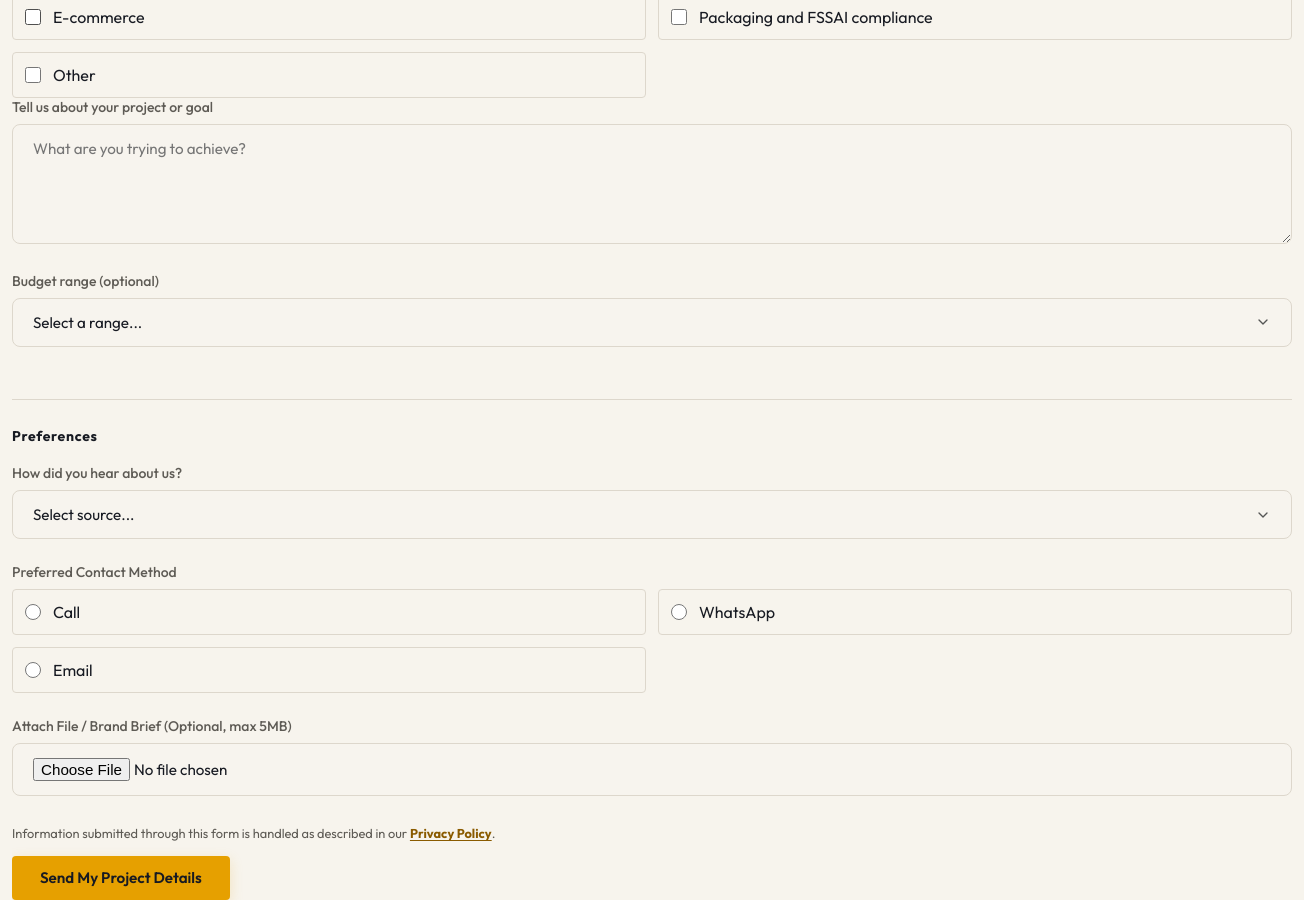
Scenario: ProjectPlannerForm › reports all required fields and focuses the first invalid control
The image size is (1304, 900).
(page scrolled)
Click the button "Send My Project Details".
click(121, 878)  # box [12,856,230,899]
(page scrolled)
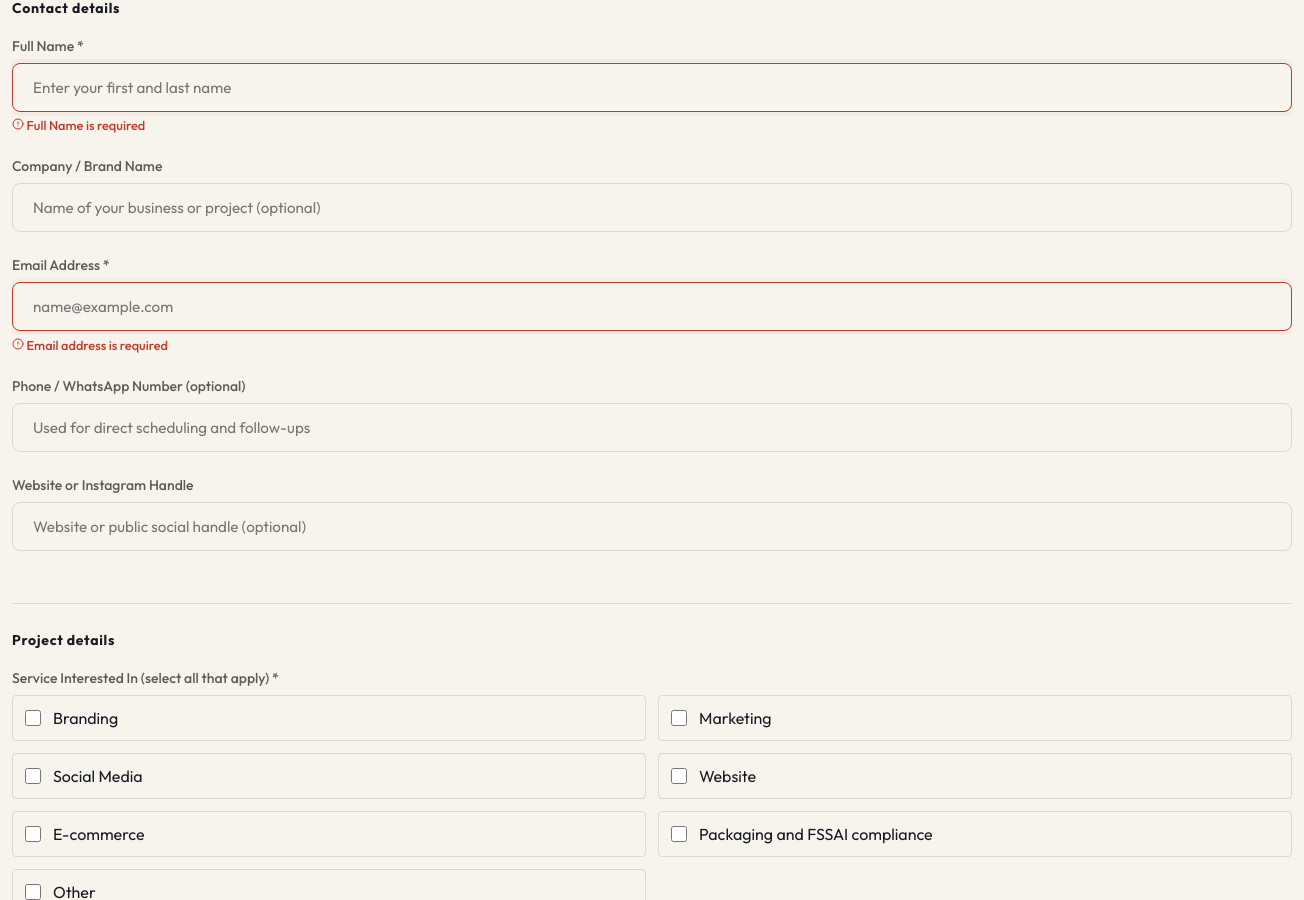
expect the text "Full Name is required" is shown: met, box [12,117,145,133]
expect the text "Email address is required" is shown: met, box [12,337,168,353]
